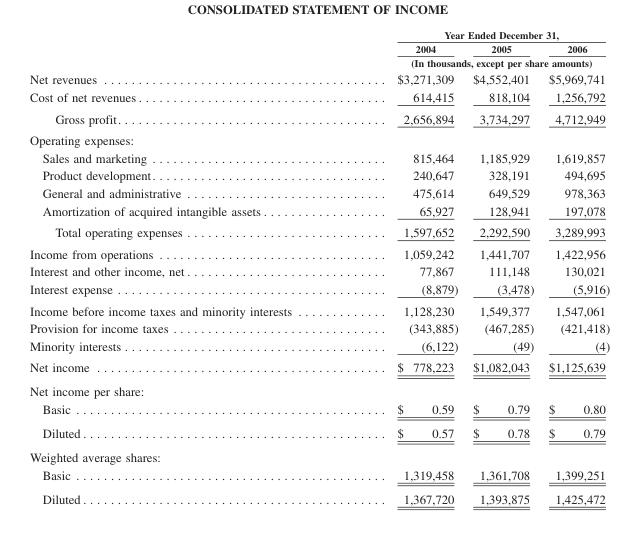table: (29, 28, 609, 505)
table column: (29, 28, 343, 505), (343, 28, 464, 505), (464, 28, 540, 505), (540, 28, 609, 505)
table column header: (29, 28, 609, 70)
table projected row header: (29, 444, 609, 465), (29, 379, 609, 399), (29, 129, 609, 148)
table row: (29, 420, 609, 444), (29, 356, 609, 379), (29, 107, 609, 129), (29, 221, 609, 242), (29, 399, 609, 420), (29, 444, 609, 465), (29, 465, 609, 486), (29, 201, 609, 221), (29, 242, 609, 262), (29, 279, 609, 299), (29, 299, 609, 319), (29, 336, 609, 356), (29, 379, 609, 399), (29, 88, 609, 107), (29, 129, 609, 148), (29, 486, 609, 505), (29, 70, 609, 88), (29, 148, 609, 166), (29, 183, 609, 201), (29, 166, 609, 183), (29, 262, 609, 279), (29, 319, 609, 336), (29, 55, 609, 70), (29, 41, 609, 55), (29, 28, 609, 41)
table spanning cell: (343, 55, 609, 70), (343, 28, 609, 41)
